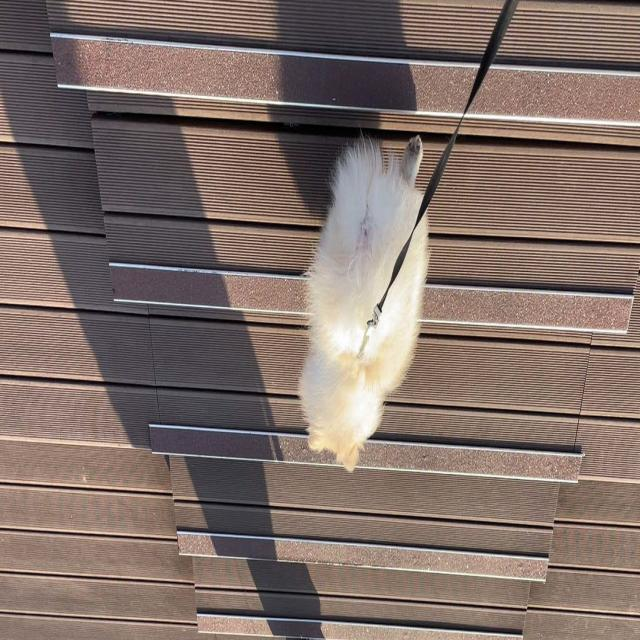Dog: (296, 134, 431, 473)
